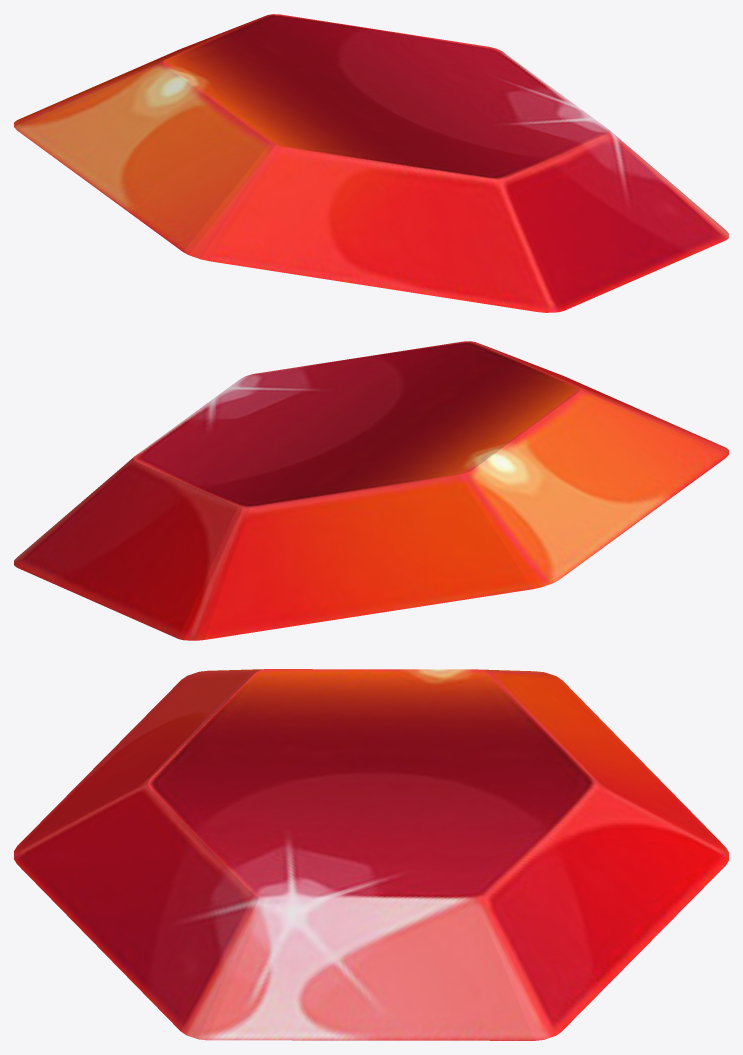
Rendered from gem.FBX.
3 views of the same model, one above another, from view 1: azimuth 30°, elevation 25°; view 2: azimuth 150°, elevation 25°; view 3: azimuth 270°, elevation 25° (orthographic).
Parts seen in each view (by area): view 1: gem; view 2: gem; view 3: gem.
Boxes of the visible parts, x1,y1,x2,y2 form: gem: (14,14,728,312); gem: (14,341,728,640); gem: (14,669,728,1040).
Bounding box in the file's own units: 0.5741 × 0.6638 × 0.1711.
